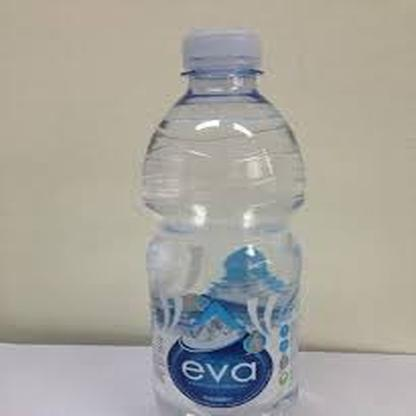plastic bottle: (139, 27, 302, 416)
